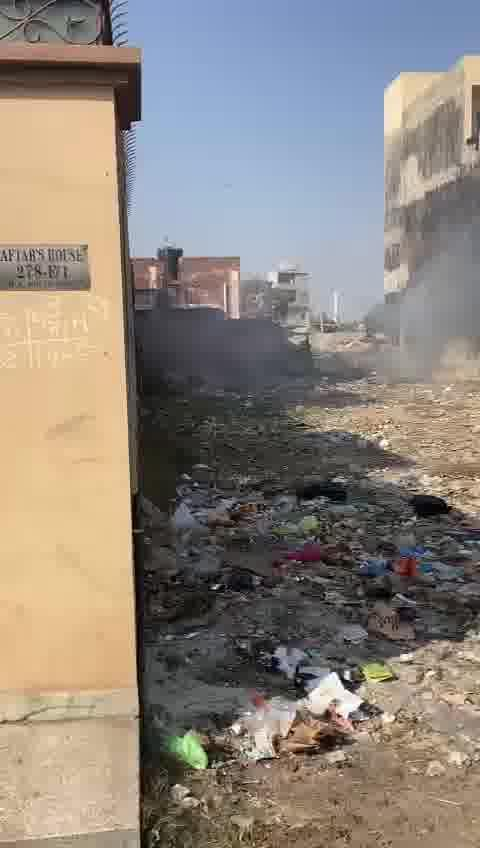garbage: (147, 398, 479, 783)
